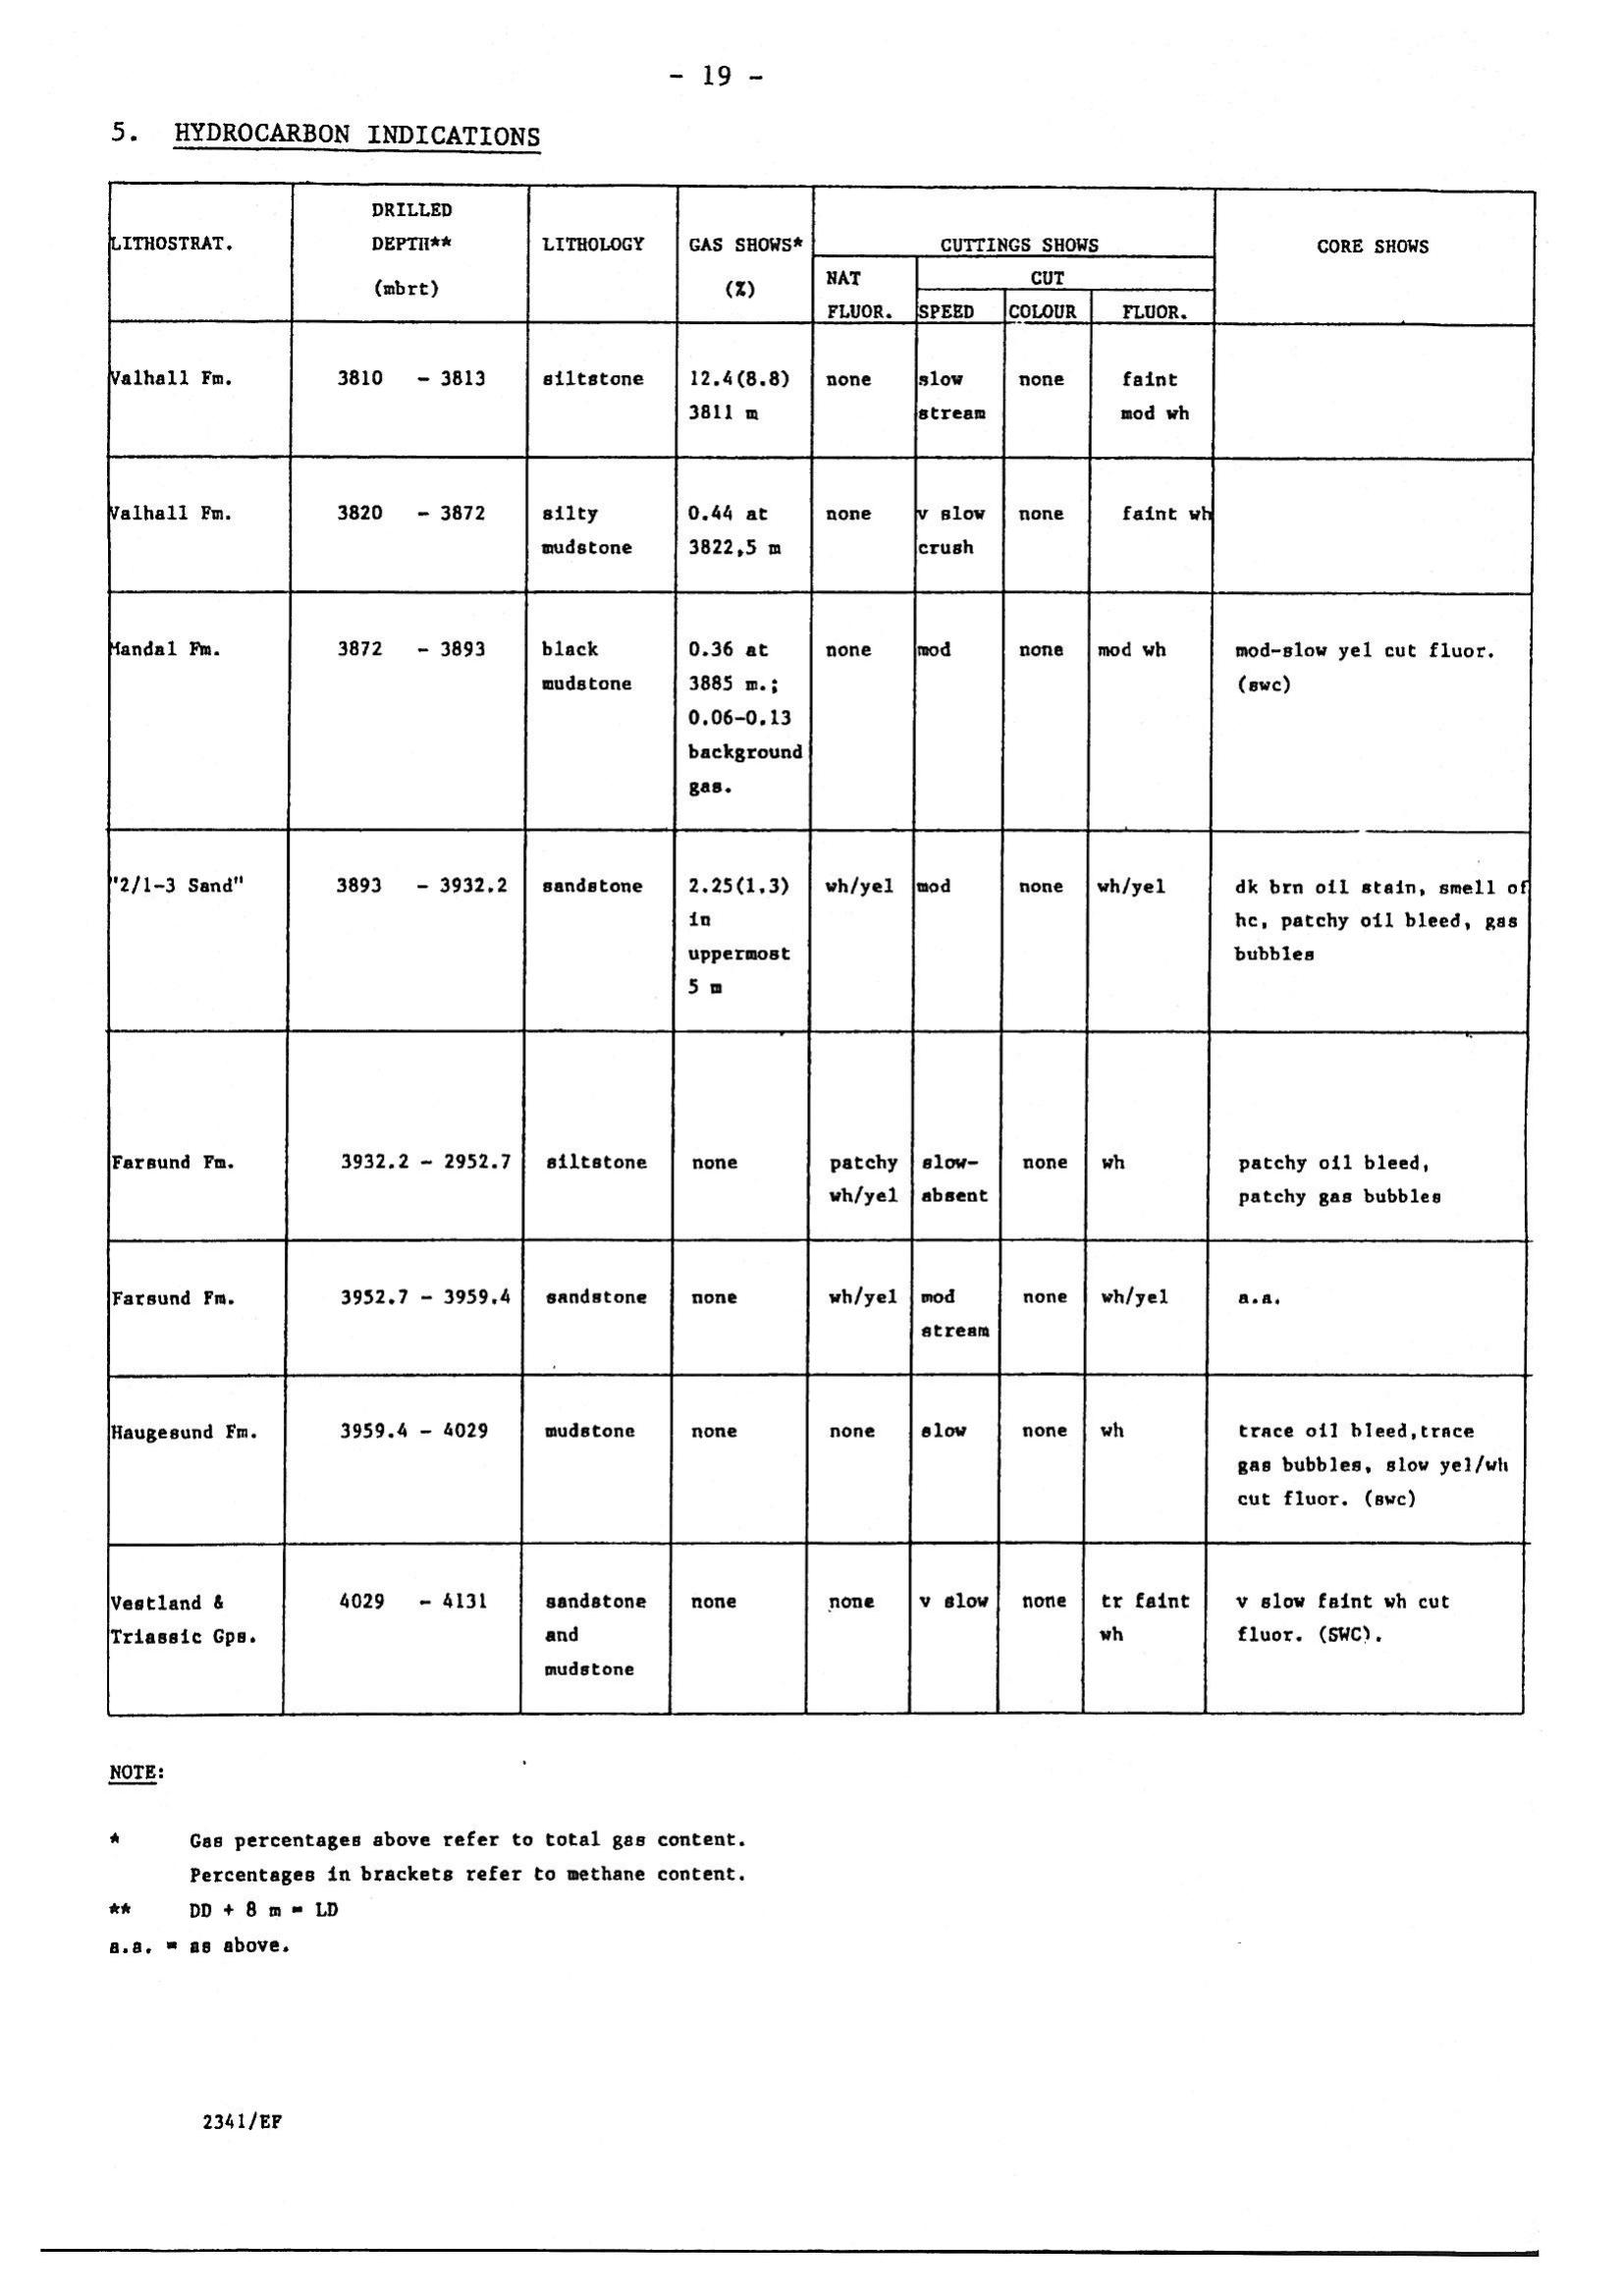graph: (77, 95, 1562, 1744)
text: (83, 1750, 775, 1985)
